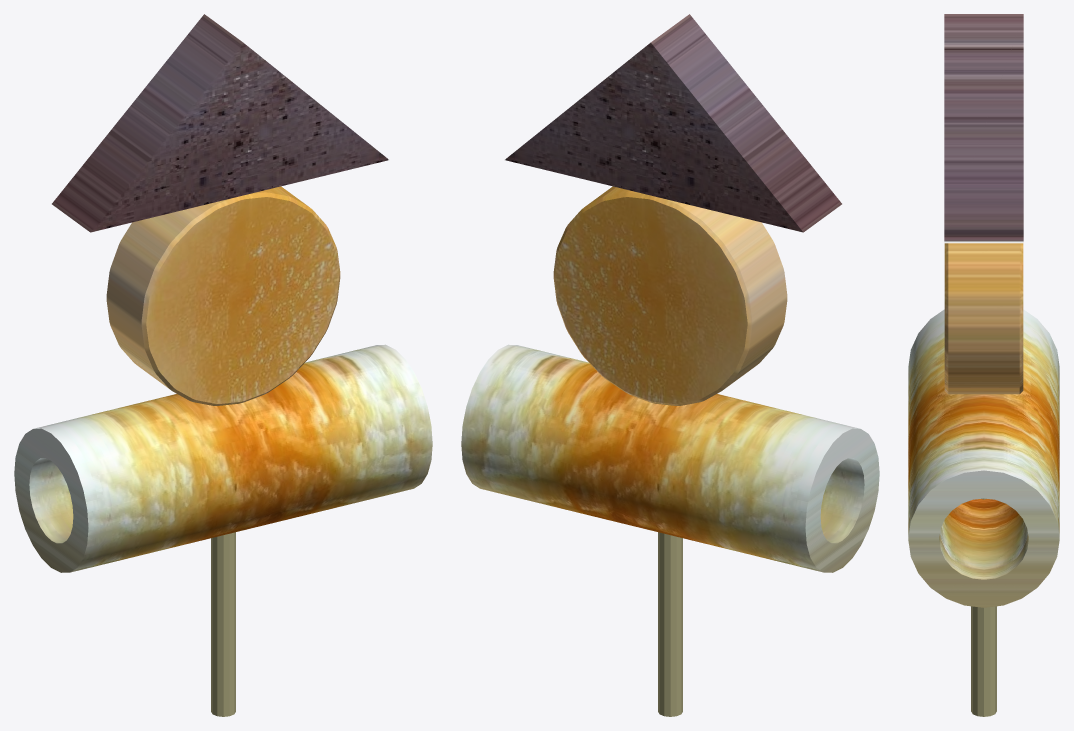
The model's file is Oden.fbx.
The picture shows the model from 3 angles, left to right: view 1: azimuth 30°, elevation 25°; view 2: azimuth 150°, elevation 25°; view 3: azimuth 270°, elevation 25°; orthographic projection. The views are drawn at different scales.
Visible parts, largest first — view 1: pCylinder10; view 2: pCylinder10; view 3: pCylinder10.
Boxes of the visible parts, bbox=[...] form: pCylinder10: bbox=[14, 14, 432, 716]; pCylinder10: bbox=[461, 14, 879, 716]; pCylinder10: bbox=[908, 14, 1059, 716].
Size of the model in its own units: 4.39 by 8.33 by 1.64.
